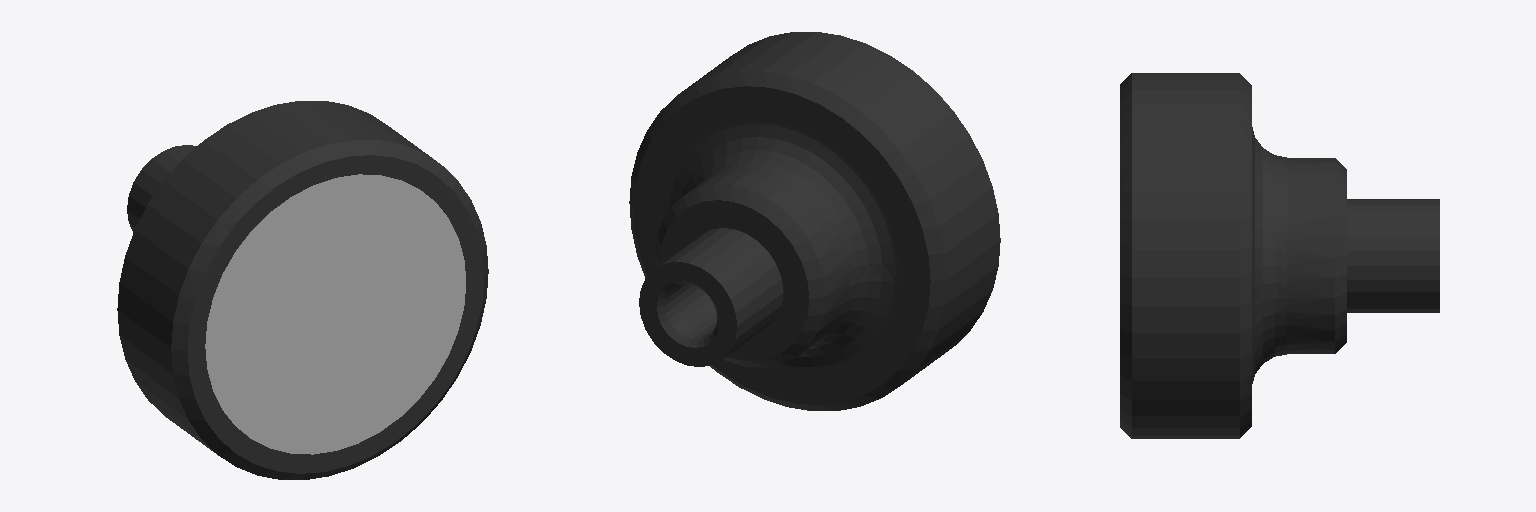
The picture shows the model from 3 angles: view 1: azimuth 30°, elevation 25°; view 2: azimuth 150°, elevation 25°; view 3: azimuth 270°, elevation 25°; orthographic projection.
Visible parts, largest first — view 1: gn_3663-62-m12-3_1; view 2: gn_3663-62-m12-3_1; view 3: gn_3663-62-m12-3_1.
Part boxes in pixels (bbox=[...]): gn_3663-62-m12-3_1: bbox=[117, 101, 488, 479]; gn_3663-62-m12-3_1: bbox=[629, 32, 1000, 410]; gn_3663-62-m12-3_1: bbox=[1120, 73, 1439, 438].
Size of the model in its own units: 61.4 by 61.4 by 53.5.